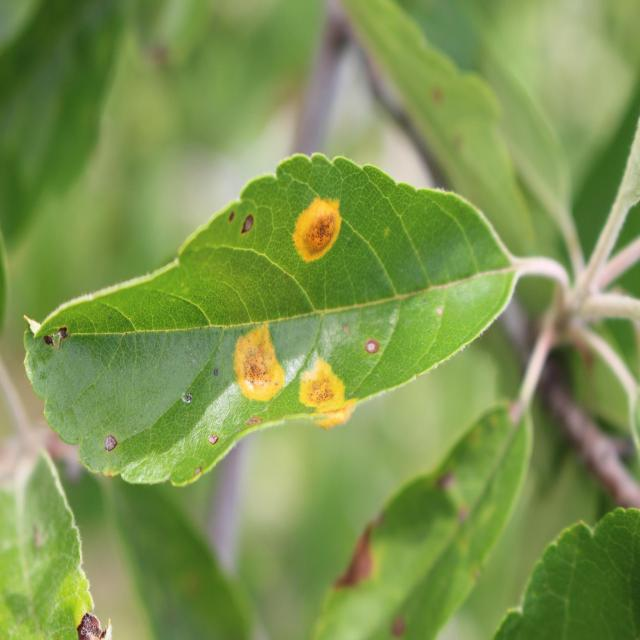Rust: (292, 345, 361, 454), (224, 308, 292, 408), (288, 182, 346, 270)
